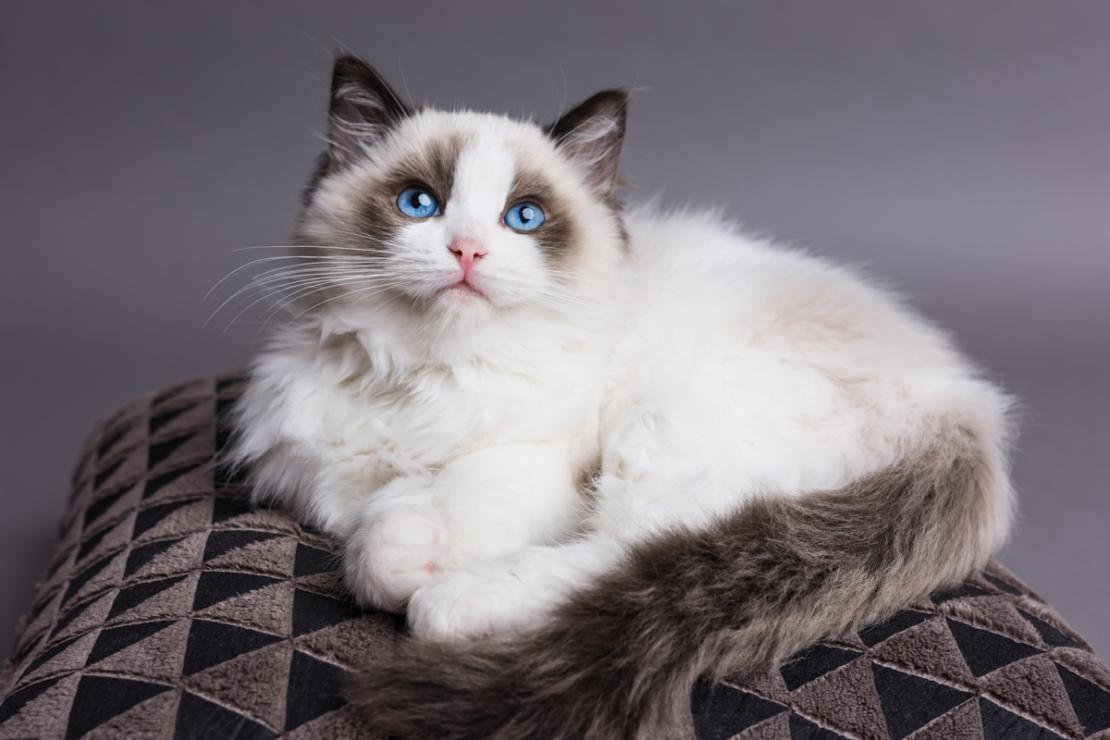ragdoll: (310, 48, 637, 368)
